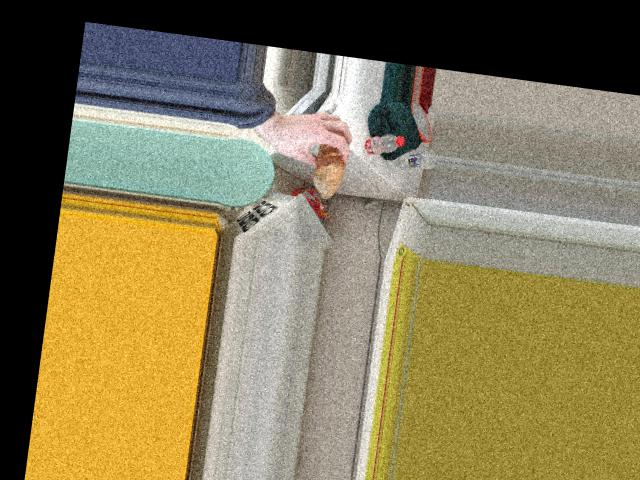sweet_potato: (313, 140, 348, 188)
